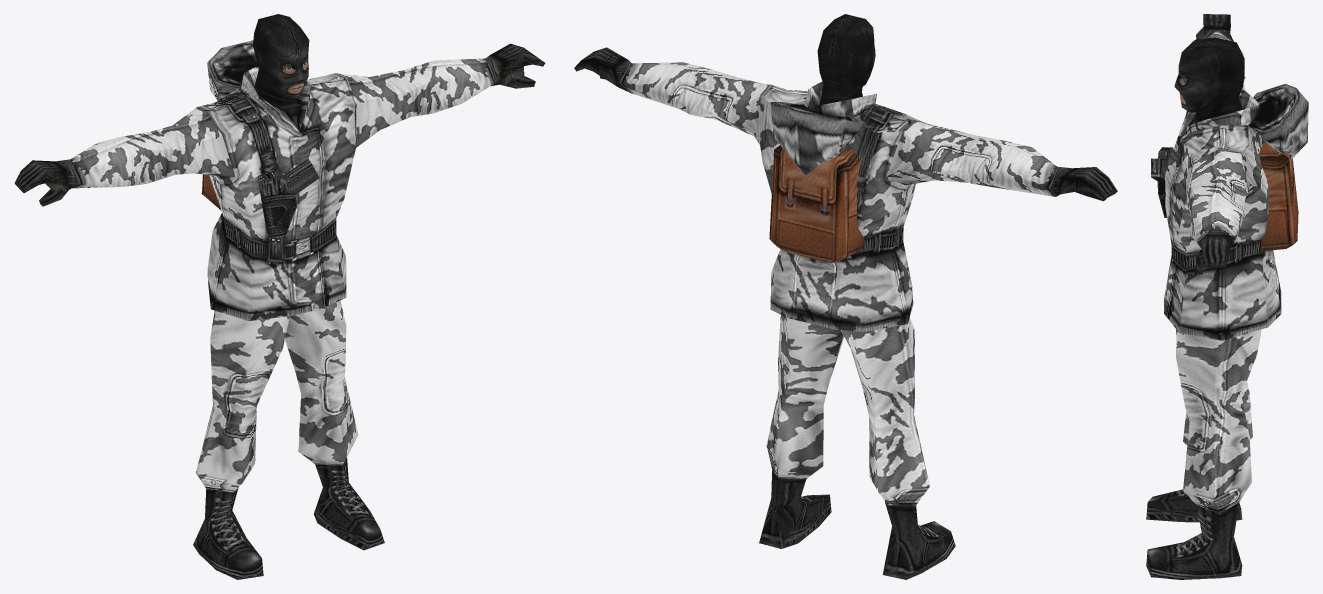
Rendered from counter-_strike_1.6_arctic_avengers.glb.
The picture shows the model from 3 angles, left to right: view 1: azimuth 30°, elevation 25°; view 2: azimuth 150°, elevation 25°; view 3: azimuth 270°, elevation 25°; orthographic projection. The views are drawn at different scales.
Visible parts, largest first — view 1: Object_2; view 2: Object_2, Object_3; view 3: Object_2, Object_3.
Part boxes in pixels (x1,y1,x2,y2): Object_2: (14,14,545,579); Object_2: (574,14,1117,579); Object_3: (769,145,864,262); Object_2: (1146,14,1308,579); Object_3: (1259,141,1298,250).
Size of the model in its own units: 1.82 by 1.72 by 0.5036.
2 materials, 2 textured.
